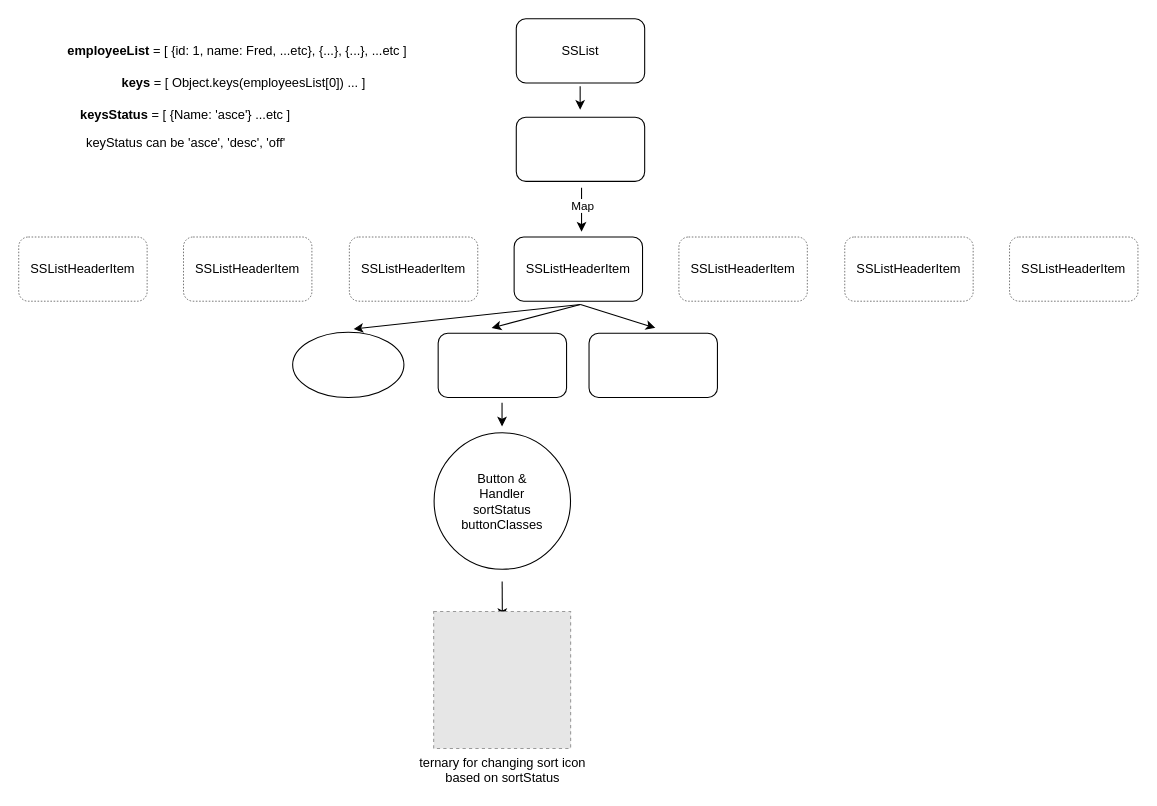
This 1157x806 diagram has some shape labels left out. Grey dashed boxes stand in for pictures. Each missing label, with the centre of its shape:
H4: [348,364]
SSListFilterButton: [652,365]
SSListHeader: [580,148]
SSListSortButton: [502,365]
